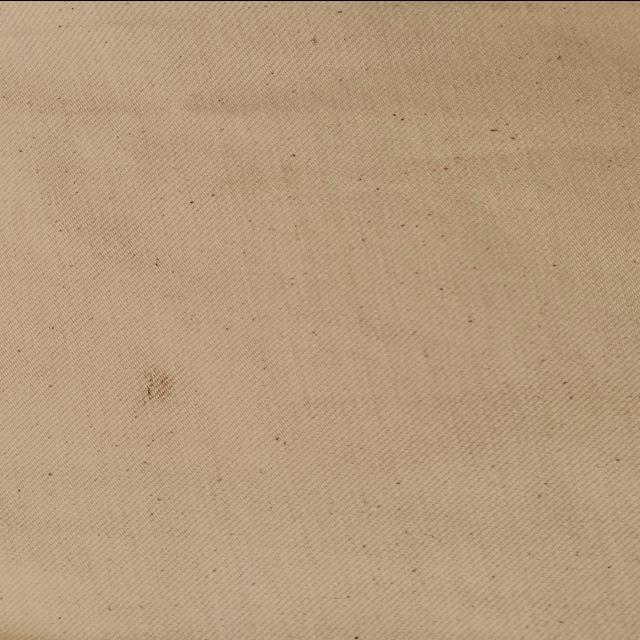taaaches: (114, 364, 186, 408)
